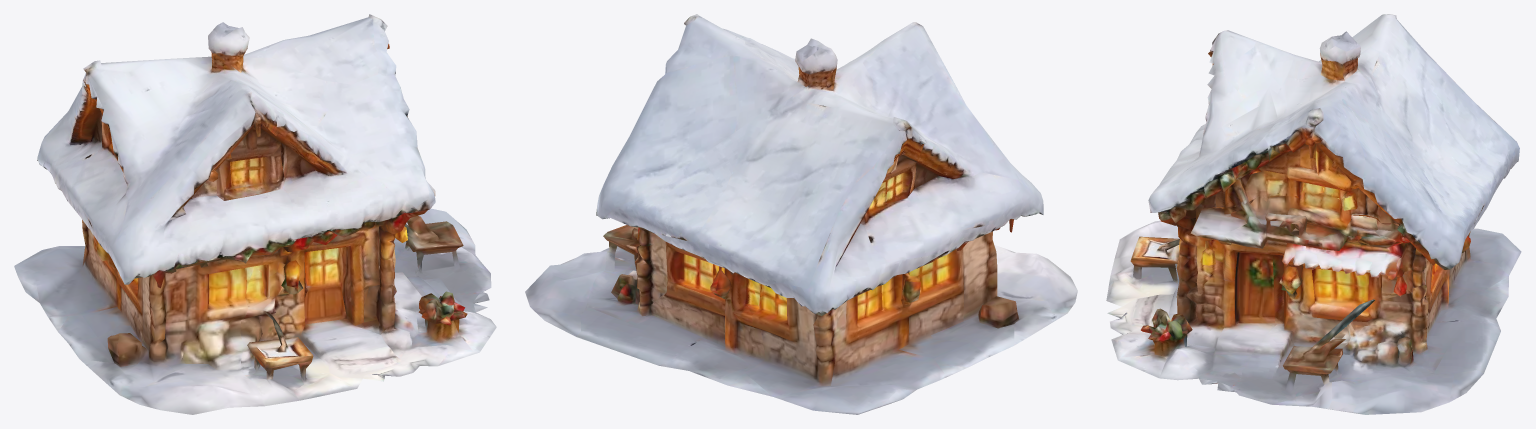
Rendered from dio_house_b.glb.
3 views of the same model, side by side, from view 1: azimuth 30°, elevation 25°; view 2: azimuth 150°, elevation 25°; view 3: azimuth 270°, elevation 25° (orthographic). The views are drawn at different scales.
Visible parts, largest first — view 1: tripo_part_6, tripo_part_1; view 2: tripo_part_6, tripo_part_1; view 3: tripo_part_1, tripo_part_6.
Boxes of the visible parts, left/top/right/bottom form: tripo_part_6: left=37, top=14, right=435, bottom=288; tripo_part_1: left=14, top=182, right=496, bottom=414; tripo_part_6: left=596, top=14, right=1043, bottom=315; tripo_part_1: left=525, top=225, right=1077, bottom=414; tripo_part_1: left=1106, top=182, right=1521, bottom=414; tripo_part_6: left=1148, top=14, right=1519, bottom=269.
Size of the model in its own units: 0.4016 by 0.2481 by 0.3513.
Materials: 2 (2 with a texture image).
